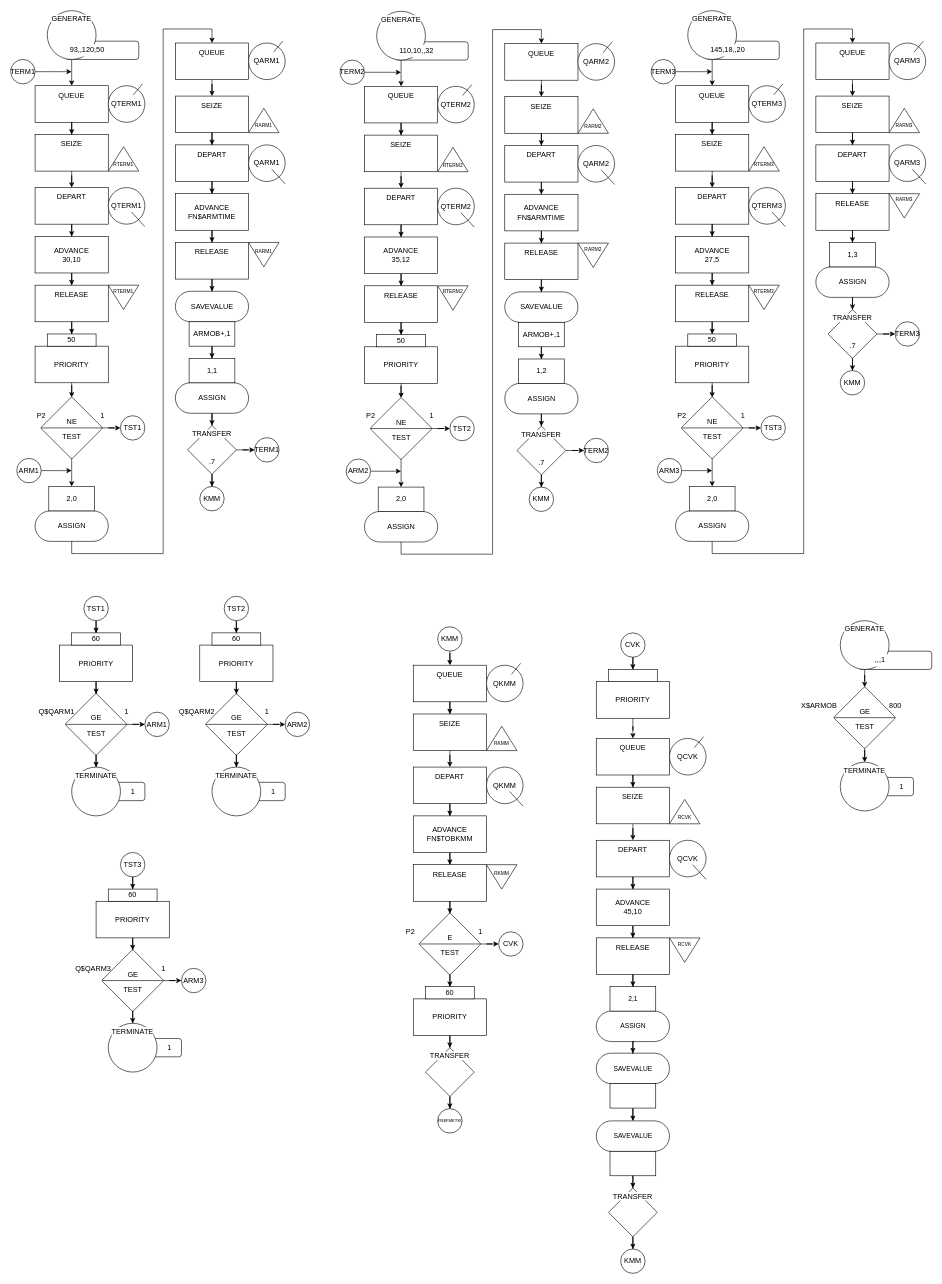
This 942x1284 diagram has some shape labels left out. Each missing label, with the centre of its shape:
"CVKCOUNT+,1" belongs at (x=632, y=1163).
"FN$CVKPRIOR" belongs at (x=632, y=675).
"FN$PLUSER+,1" belongs at (x=632, y=1095).
